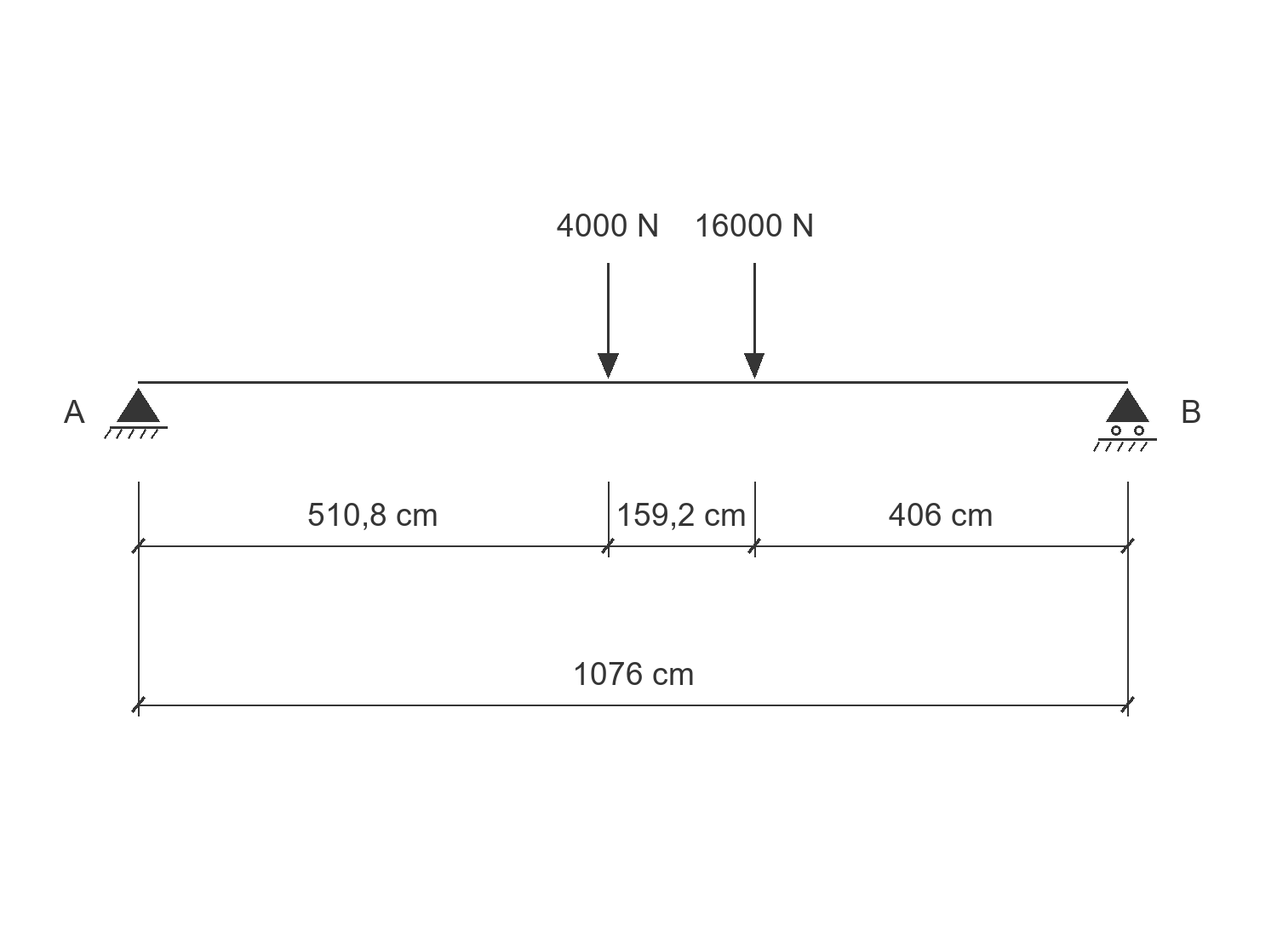pin_support: (104, 388, 168, 439)
point_load: (598, 263, 619, 379), (744, 263, 764, 379)
roller_support: (1093, 388, 1157, 452)
